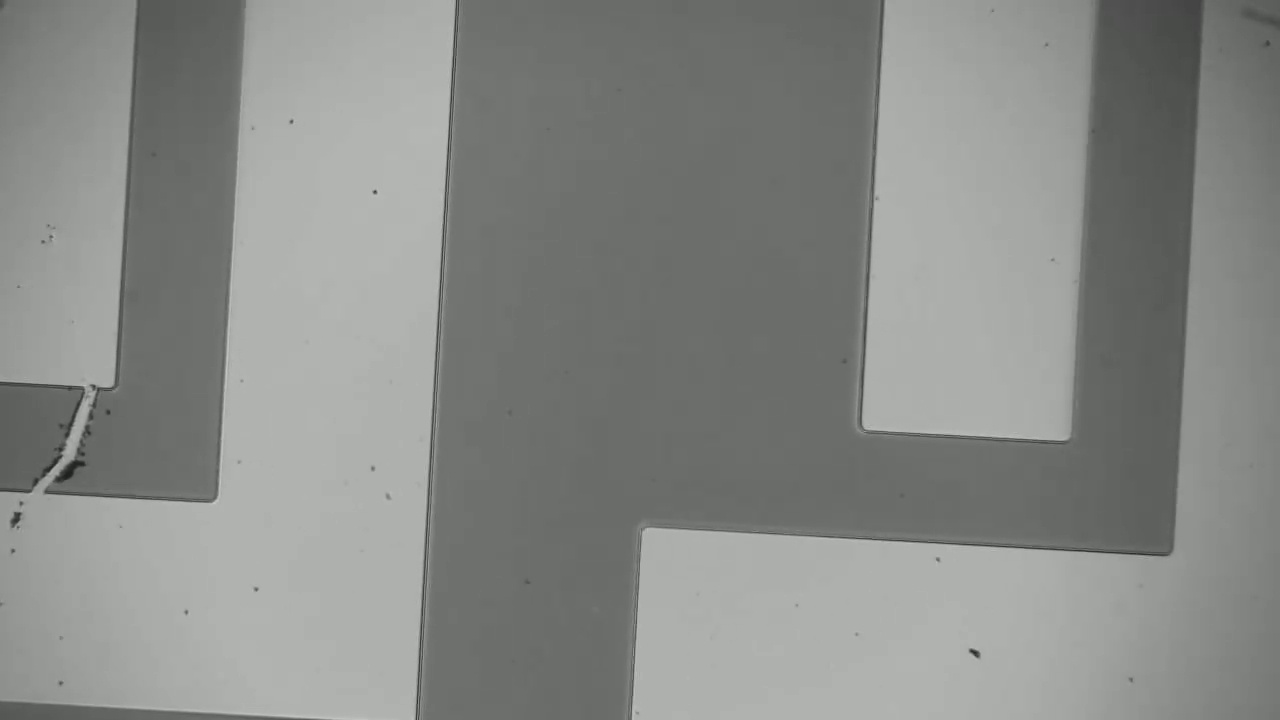Short_circuit: (16, 382, 113, 507)
